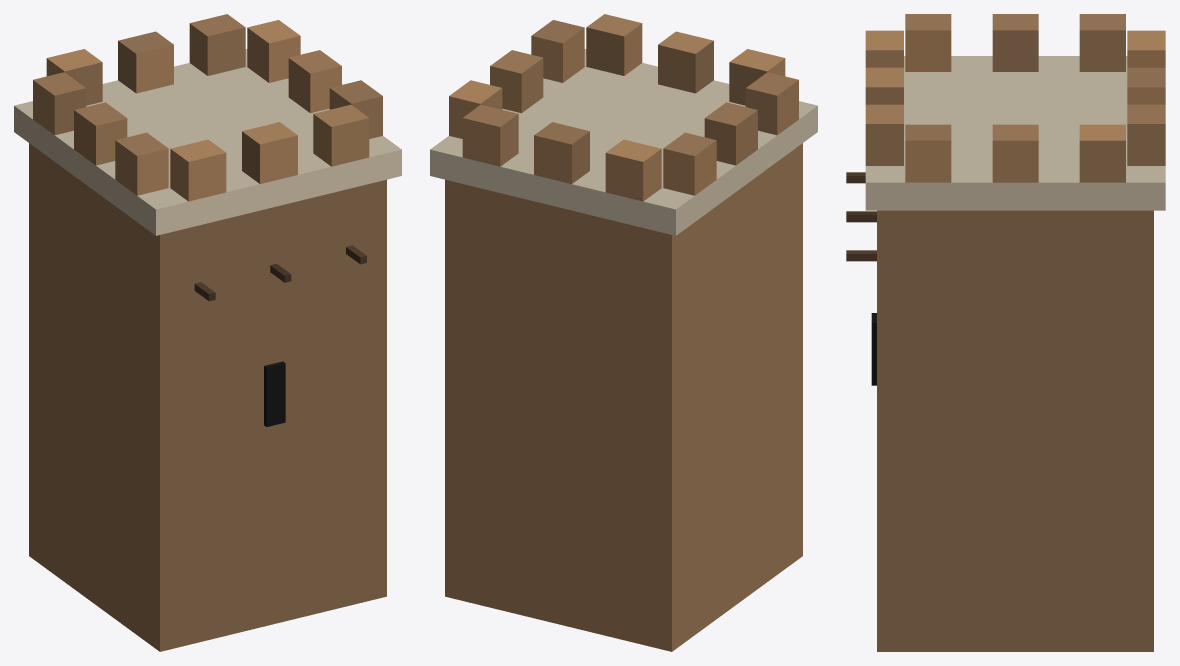
The model's file is mud_tower.glb.
3 renders of one model, left to right at view 1: azimuth 30°, elevation 25°; view 2: azimuth 150°, elevation 25°; view 3: azimuth 270°, elevation 25°, orthographic. The views are drawn at different scales.
Parts seen in each view (by area): view 1: mud_tower; view 2: mud_tower; view 3: mud_tower.
Boxes of the visible parts, x1,y1,x2,y2 form: mud_tower: (14, 14, 401, 651); mud_tower: (430, 14, 817, 651); mud_tower: (846, 14, 1165, 651).
Bounding box in the file's own units: 3.9 × 7.4 × 4.15.
1 material, 1 textured.
